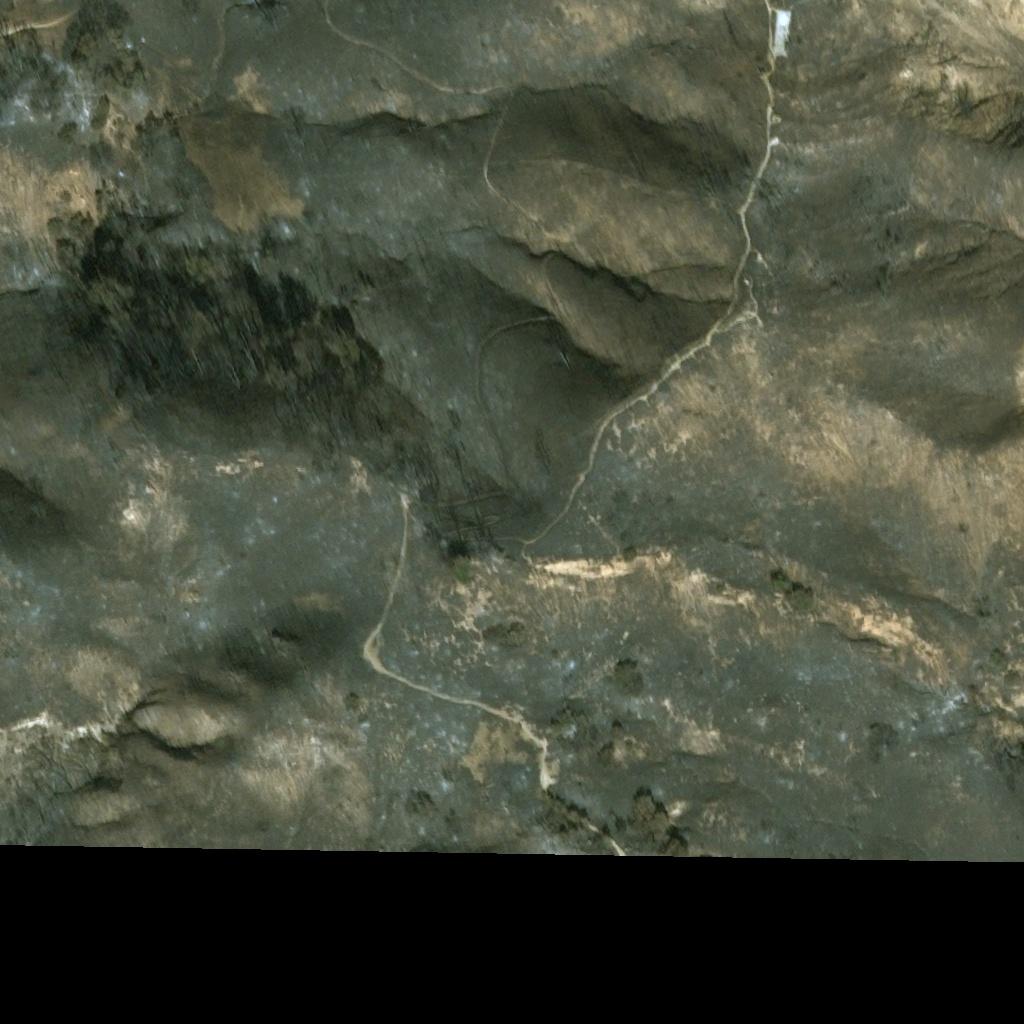0 no-damage: (772, 15, 796, 60)
